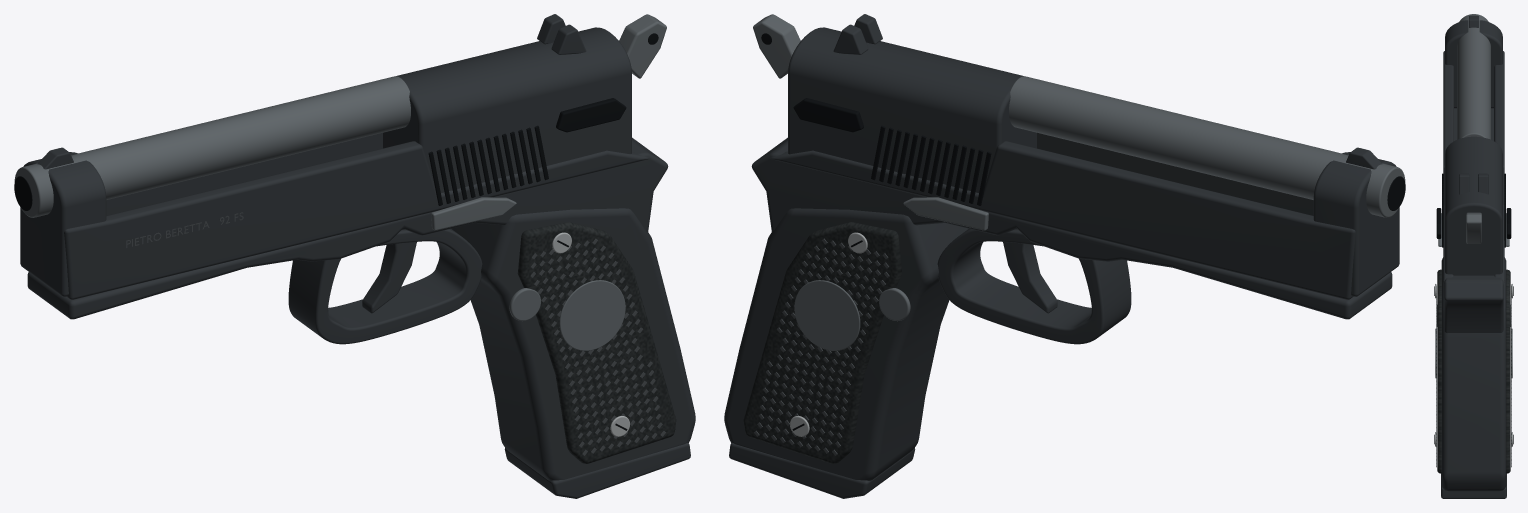
3 views of the same model, side by side, from view 1: azimuth 30°, elevation 25°; view 2: azimuth 150°, elevation 25°; view 3: azimuth 270°, elevation 25° (orthographic). The views are drawn at different scales.
Visible parts, largest first — view 1: Open upper side rail, Rear slide crown, Rounded grip body, Visible barrel outer surface, Checkered grip panel, Alloy frame profile, Sculpted trigger guard, Front slide bridge, Open upper side rail.001, Grip medallion, Magazine floor plate.001, Arched trigger exterior (+5 smaller); view 2: Open upper side rail.001, Rear slide crown, Rounded grip body, Visible barrel outer surface, Checkered grip panel.001, Alloy frame profile, Sculpted trigger guard, Front slide bridge, Open upper side rail, Grip medallion.001, Magazine floor plate.001, Arched trigger exterior (+5 smaller); view 3: Rounded grip body, Rear slide crown, Visible barrel outer surface, Alloy frame profile, Front slide bridge, Open upper side rail, Open upper side rail.001, Checkered grip panel, Checkered grip panel.001, Magazine floor plate.001, Exposed hammer exterior, Rear sight notch (+4 smaller).
Boxes of the visible parts, x1,y1,x2,y2 form: Open upper side rail: (64,141,650,299); Rear slide crown: (383,27,631,192); Rounded grip body: (451,208,695,480); Visible barrel outer surface: (14,76,410,217); Checkered grip panel: (517,222,676,463); Alloy frame profile: (27,137,668,319); Sculpted trigger guard: (288,228,482,344); Front slide bridge: (20,152,106,296); Open upper side rail.001: (106,132,382,215); Grip medallion: (559,280,625,350); Magazine floor plate.001: (504,443,690,498); Arched trigger exterior: (362,242,416,313); Open upper side rail.001: (769,141,1355,299); Rear slide crown: (788,27,1036,192); Rounded grip body: (724,208,968,480); Visible barrel outer surface: (1009,76,1405,217); Checkered grip panel.001: (743,222,902,463); Alloy frame profile: (751,137,1392,319); Sculpted trigger guard: (937,228,1131,344); Front slide bridge: (1313,152,1399,296); Open upper side rail: (1037,132,1313,215); Grip medallion.001: (794,280,860,350); Magazine floor plate.001: (729,443,915,498); Arched trigger exterior: (1003,242,1057,313); Rounded grip body: (1441,257,1506,491); Rear slide crown: (1445,136,1502,275); Visible barrel outer surface: (1457,14,1490,139); Alloy frame profile: (1444,108,1503,332); Front slide bridge: (1445,20,1502,108); Open upper side rail: (1443,51,1453,283); Open upper side rail.001: (1494,51,1504,283); Checkered grip panel: (1437,269,1441,473); Checkered grip panel.001: (1506,269,1510,473); Magazine floor plate.001: (1441,473,1506,498); Exposed hammer exterior: (1466,212,1481,243); Rear sight notch: (1459,173,1469,194).
Bounding box in the file's own units: 3.75 × 2.52 × 0.608.
6 materials, 1 textured.
